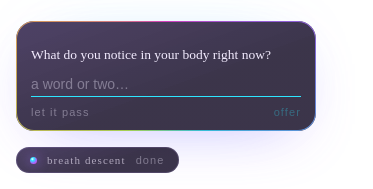
Scenario: PracticeCompanion › asks at a deeper phase change and mirrors the answer
In the field with placeholder "a word or two…": (166,84) [31,72,301,97], type "heavy and calm"
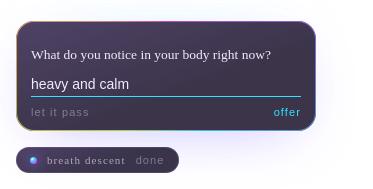
Submit the form, box [16,20,316,131]
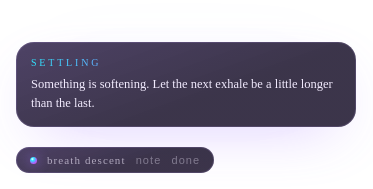
Check: the text "settling" is shown, box [31,55,341,71]
